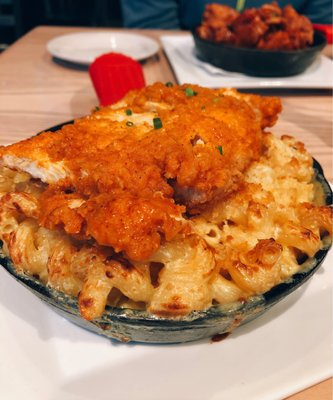pizza: (88, 51, 147, 107)
sushi: (192, 2, 327, 78)
